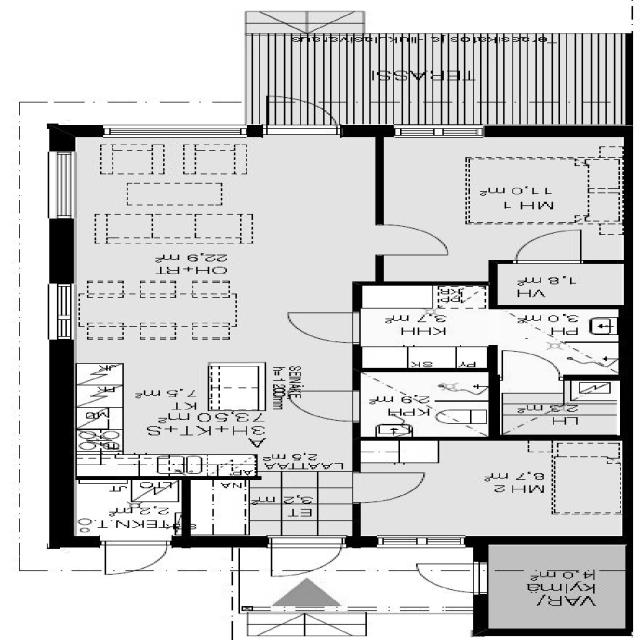door: (282, 306, 369, 349), (491, 344, 572, 386), (378, 222, 463, 262), (517, 228, 598, 268), (260, 538, 348, 572), (410, 561, 495, 596), (282, 388, 372, 421), (268, 96, 339, 136), (343, 467, 427, 500), (106, 540, 172, 581)
window: (68, 478, 185, 546), (38, 146, 95, 225), (92, 119, 264, 138), (361, 530, 487, 549), (392, 120, 506, 138), (49, 284, 85, 337)
zone: (62, 130, 364, 480), (372, 128, 612, 267), (361, 442, 638, 539), (361, 286, 497, 369), (348, 369, 499, 438)
